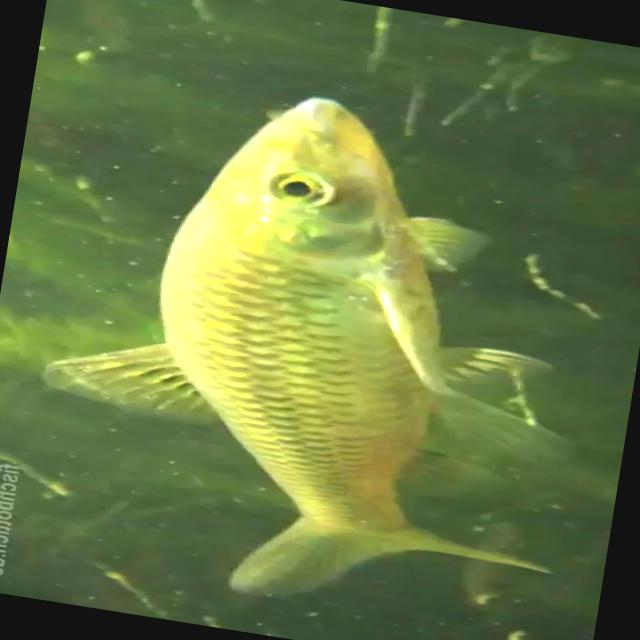Cakil Baligi: (10, 61, 623, 640)
